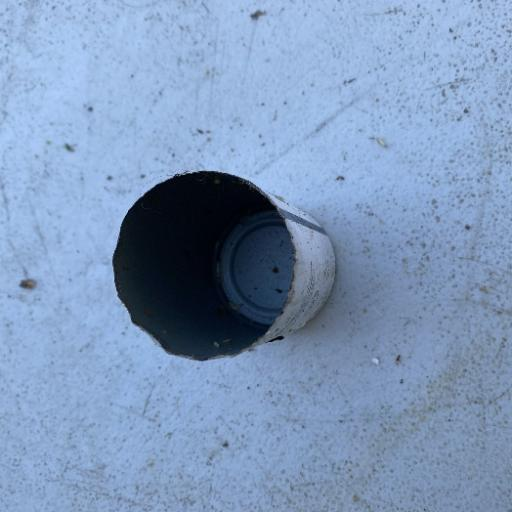Metal: (2, 1, 509, 509), (110, 167, 338, 364)
